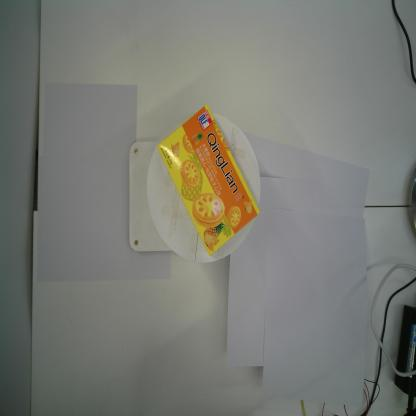Dessert: (157, 103, 260, 257)
